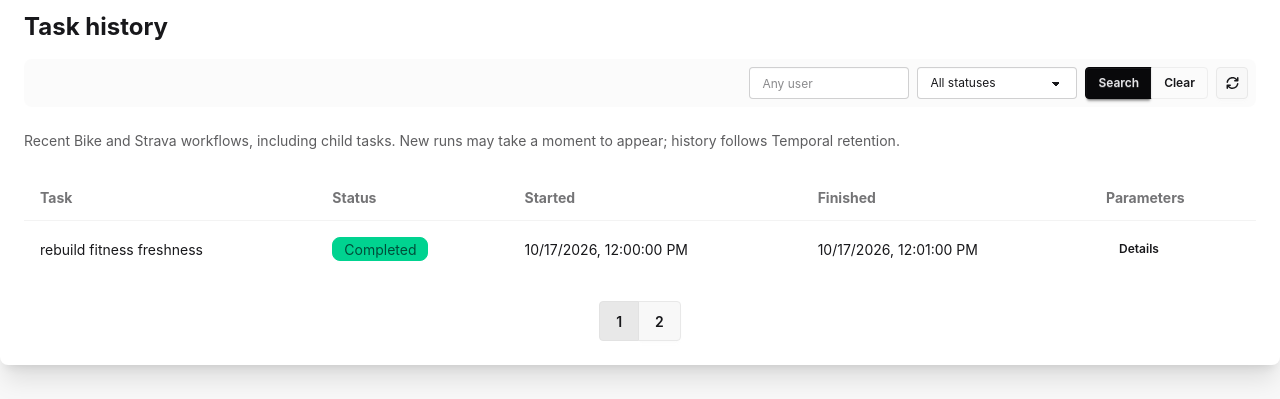
does not fetch an invalid user filter
Type "1.5" into the number field named "Task user ID".
click(829, 83); type("1.5")  # box [749,67,909,99]
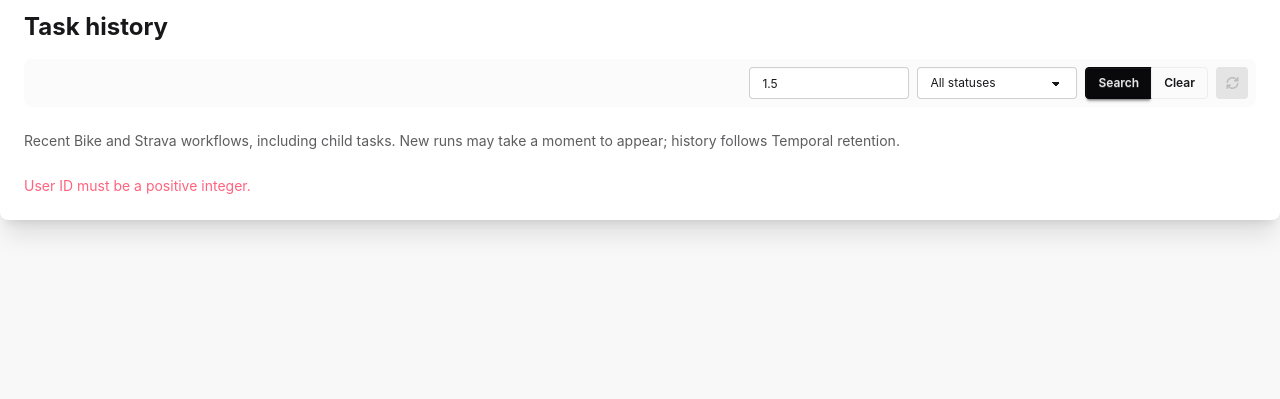
Result: the message reads "User ID must be a positive integer." at [24,177,251,194]
Result: the button named "Refresh" is disabled at [1216,67,1248,99]
